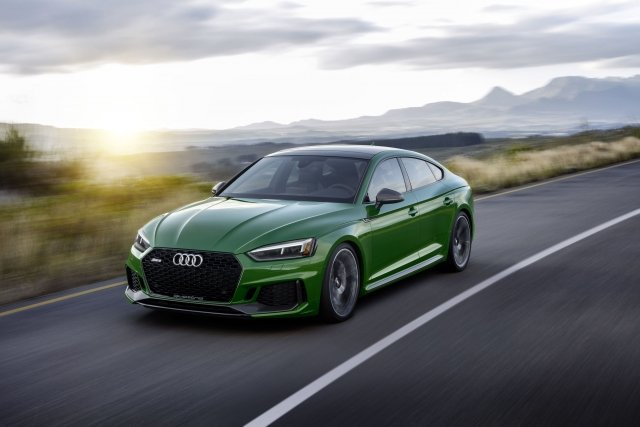car: (123, 142, 483, 327)
